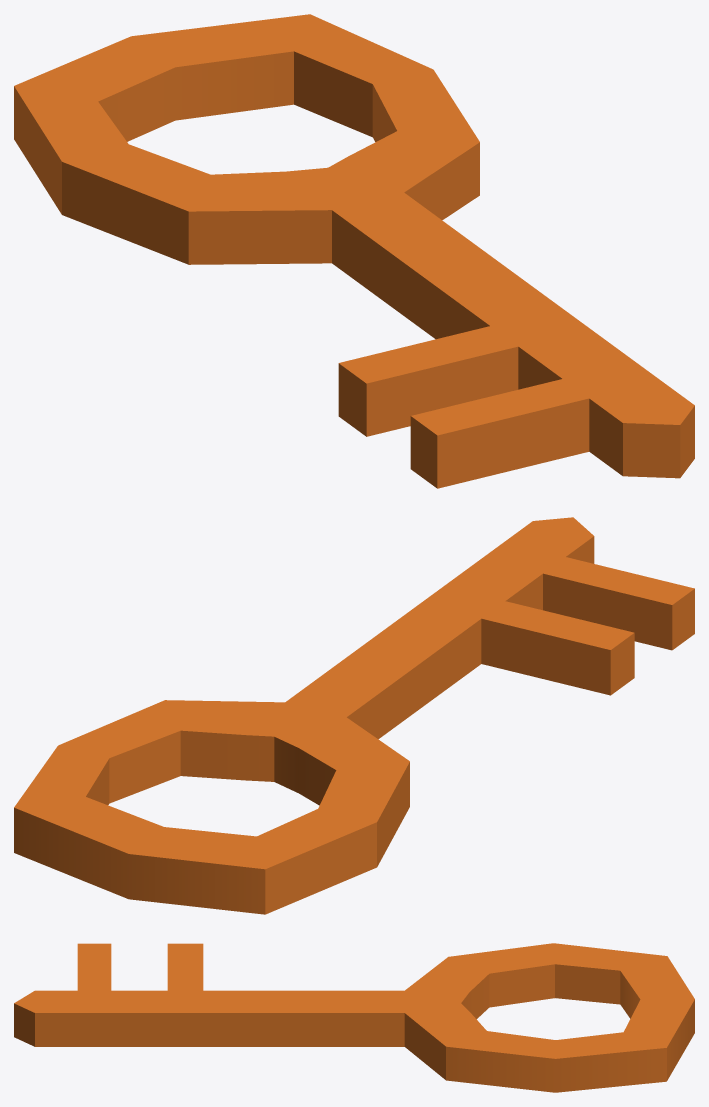
File: Key.fbx
3 renders of one model, top to bottom at view 1: azimuth 30°, elevation 25°; view 2: azimuth 150°, elevation 25°; view 3: azimuth 270°, elevation 25°, orthographic. The views are drawn at different scales.
Parts seen in each view (by area): view 1: pCube1; view 2: pCube1; view 3: pCube1.
Part boxes in pixels (<box>): pCube1: <box>14,14,694,488</box>; pCube1: <box>14,517,694,914</box>; pCube1: <box>14,943,694,1092</box>.
Bounding box in the file's own units: 4.55 × 0.6214 × 11.32.
